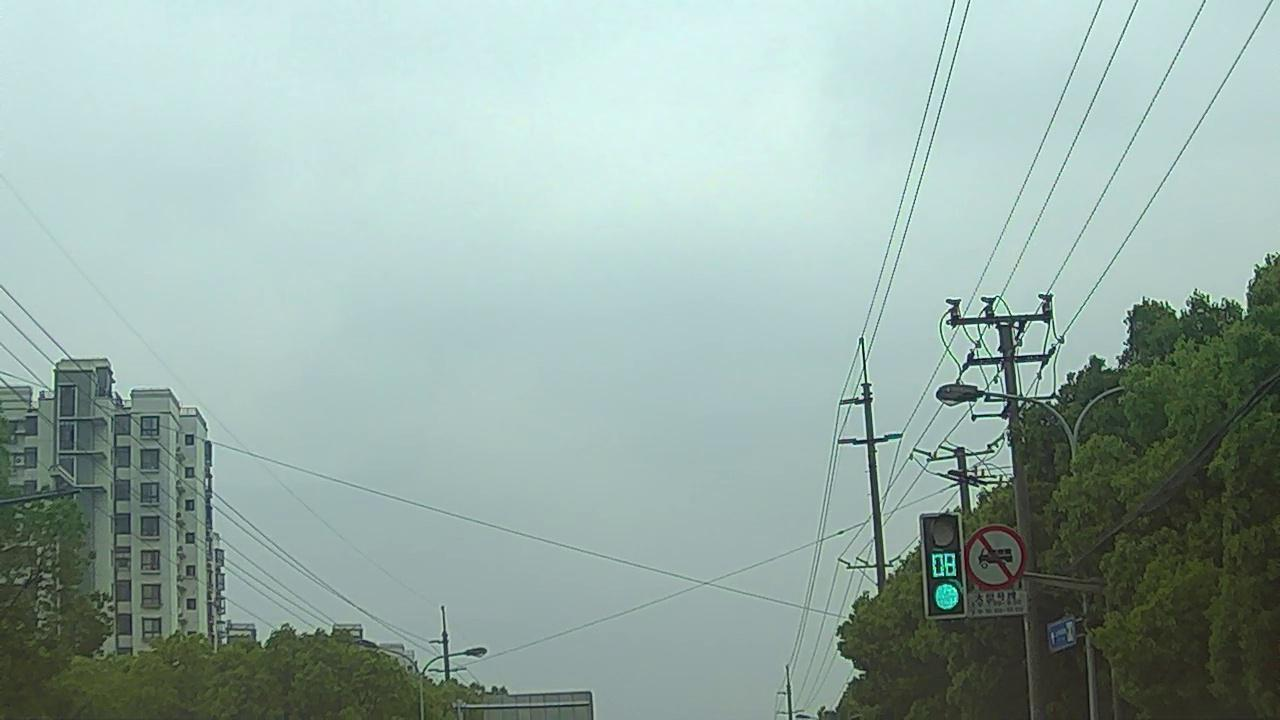traffic_light: (920, 515, 966, 615)
